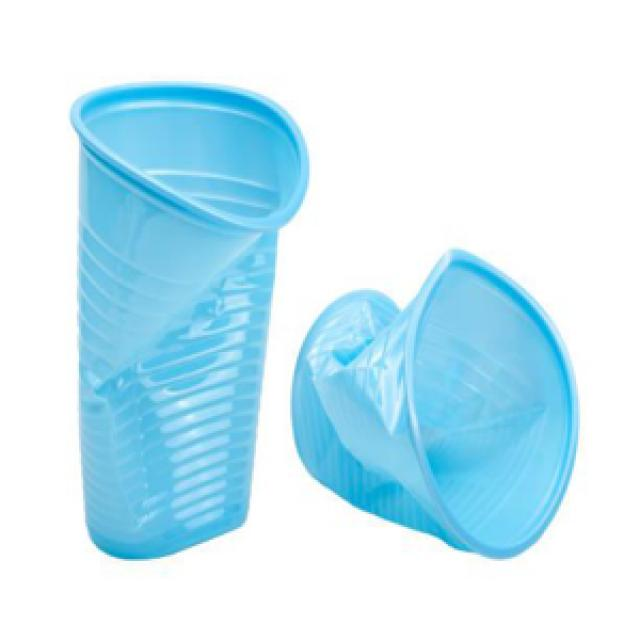plastic cup: (66, 77, 314, 563), (286, 243, 580, 563)
